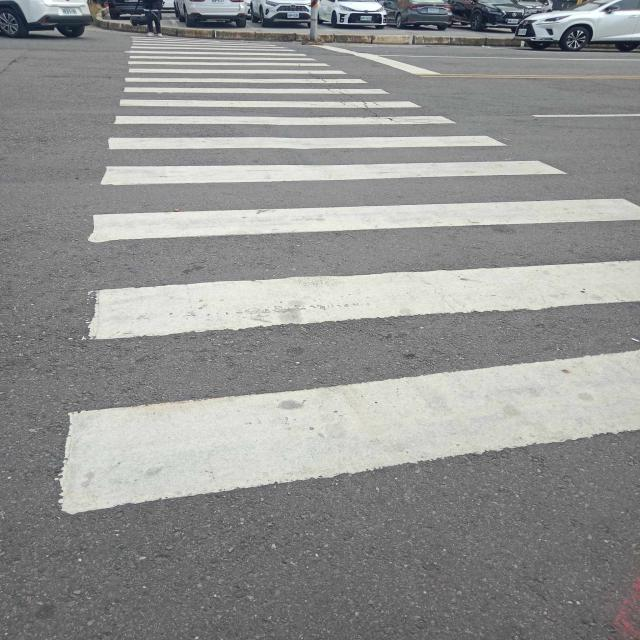zebra crossing: (55, 38, 640, 513)
